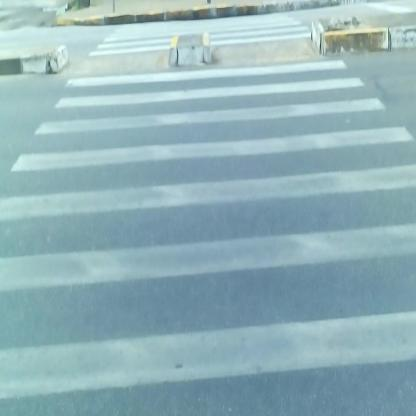crosswalk: (15, 35, 416, 416)
sidewalk: (42, 3, 390, 33)
